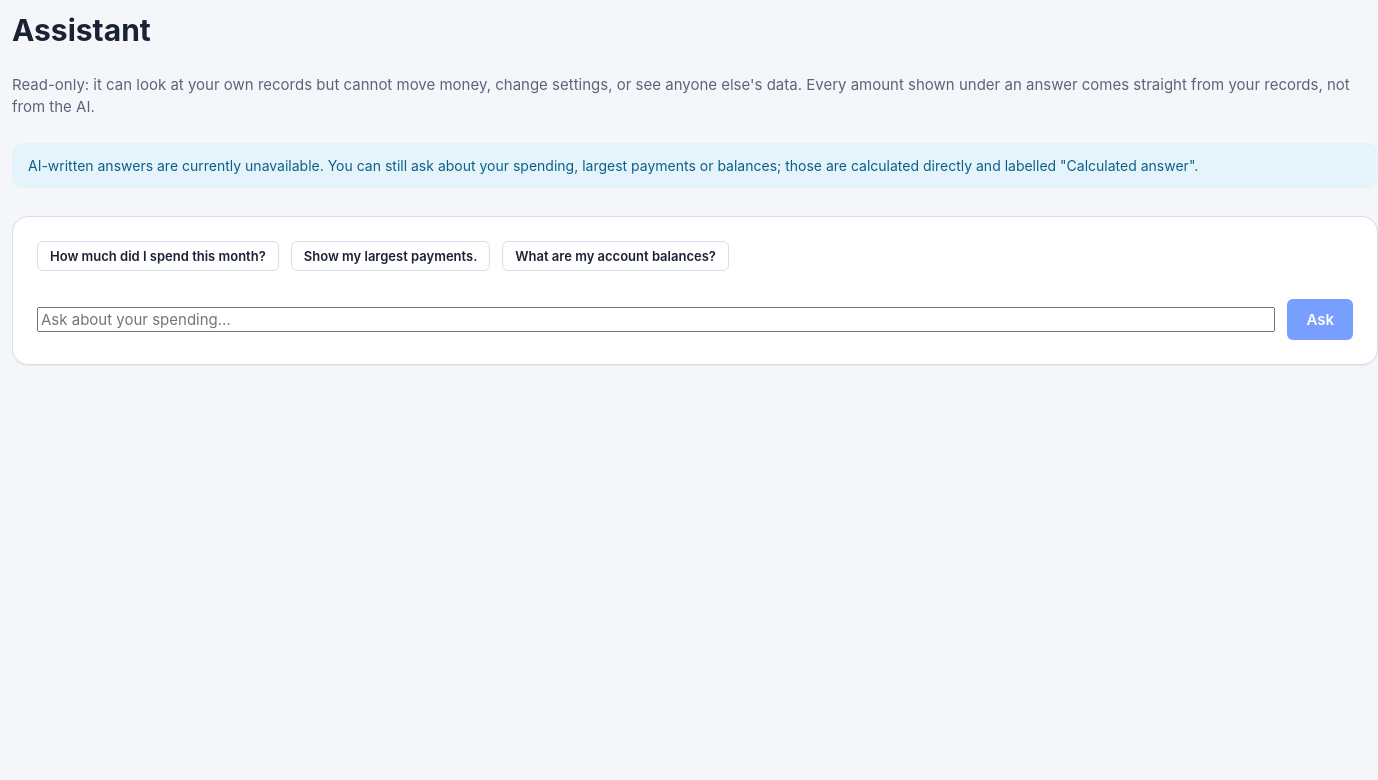
Test case: AiAssistantPage › tells the customer when an AI reply was thrown away for not matching their records
Type "How much did I spend?" into the field named "Ask a question" at (656, 319), box [37,306,1275,332]
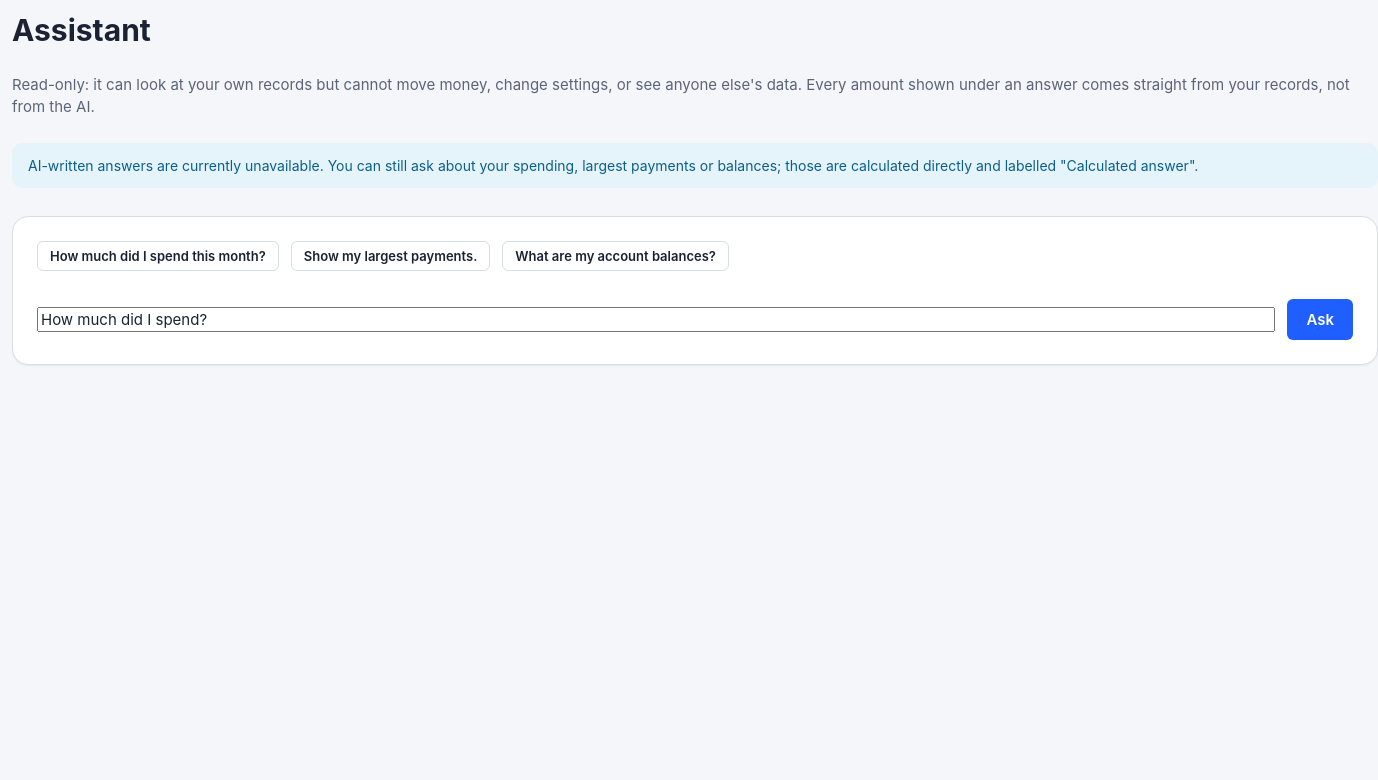
Click the button "Ask" at (1320, 319), box [1287,298,1353,340]
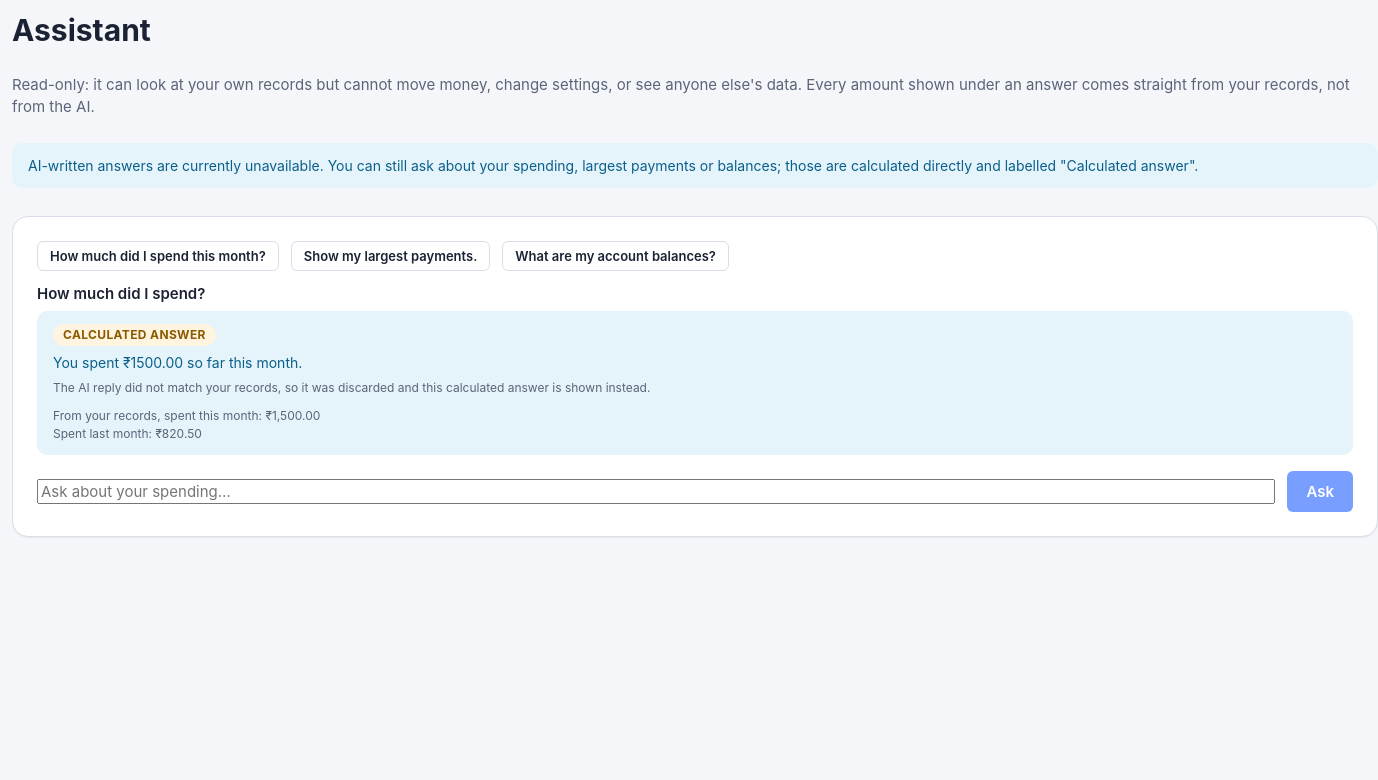
Check: the text "How much did I spend?" is shown, box [37,284,205,302]
Check: the text "Calculated answer" is shown, box [53,324,216,346]
Check: the text "did not match your records, so it was discarded" is shown, box [53,380,650,395]
